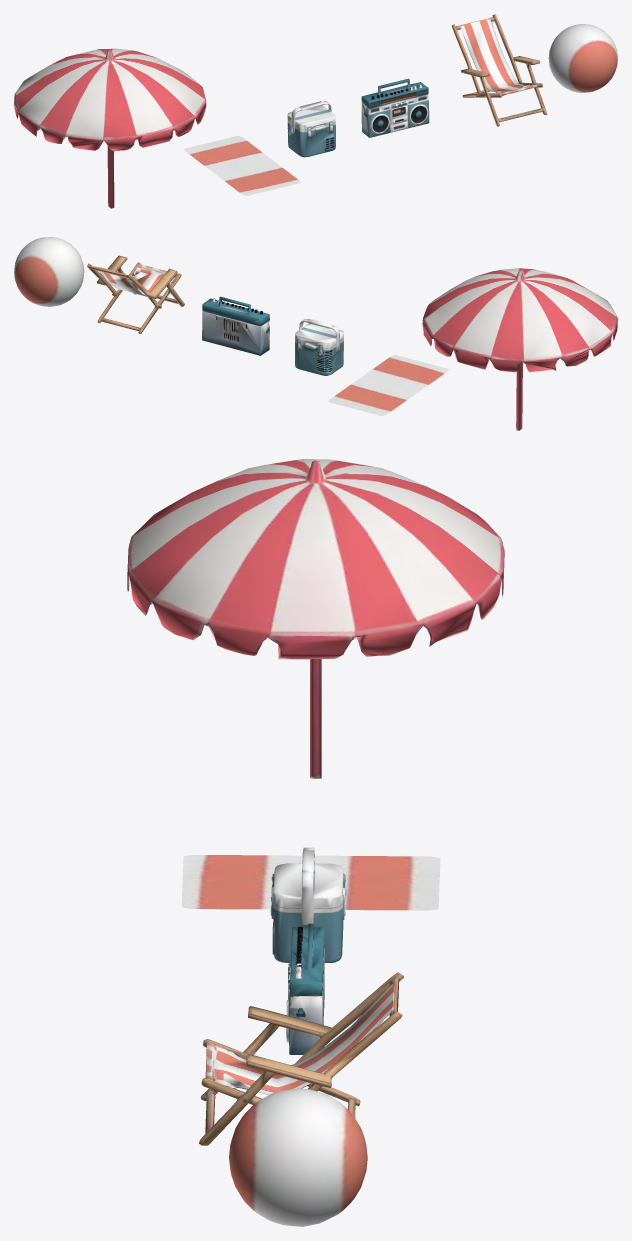
File: beachKit.glb
3 renders of one model, top to bottom at view 1: azimuth 30°, elevation 25°; view 2: azimuth 150°, elevation 25°; view 3: azimuth 270°, elevation 25°, orthographic. The views are drawn at different scales.
Visible parts, largest first — view 1: Beach umbrella_Umbrella_0, Beach chair_Chair_0, Beach boombox_Boombox_0, Coolbox_Coolbox_0; view 2: Beach umbrella_Umbrella_0, Beach chair_Chair_0, Beach boombox_Boombox_0, Coolbox_Coolbox_0; view 3: Beach umbrella_Umbrella_0, Beach chair_Chair_0, Coolbox_Coolbox_0, Beach boombox_Boombox_0.
Boxes of the visible parts, left/top/right/bottom form: Beach umbrella_Umbrella_0: left=14, top=48, right=206, bottom=208; Beach chair_Chair_0: left=184, top=14, right=617, bottom=196; Beach boombox_Boombox_0: left=361, top=78, right=429, bottom=137; Coolbox_Coolbox_0: left=287, top=101, right=335, bottom=157; Beach umbrella_Umbrella_0: left=422, top=268, right=617, bottom=430; Beach chair_Chair_0: left=14, top=237, right=448, bottom=416; Beach boombox_Boombox_0: left=202, top=296, right=269, bottom=355; Coolbox_Coolbox_0: left=295, top=318, right=343, bottom=375; Beach umbrella_Umbrella_0: left=127, top=459, right=504, bottom=778; Beach chair_Chair_0: left=181, top=855, right=440, bottom=1226; Coolbox_Coolbox_0: left=270, top=847, right=346, bottom=963; Beach boombox_Boombox_0: left=286, top=923, right=324, bottom=1054.
Bounding box in the file's own units: 10 × 2.59 × 2.81.
Materials: 4 (4 with a texture image).
